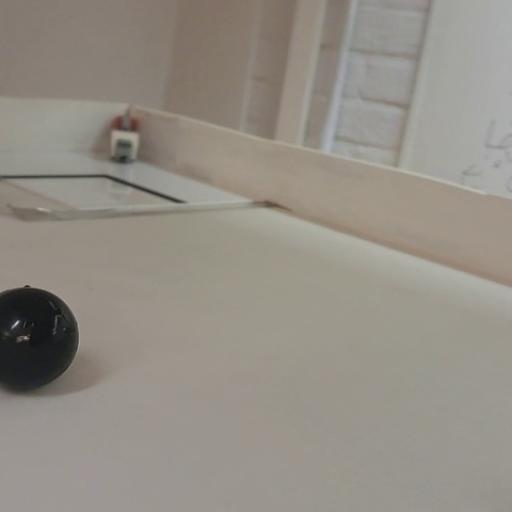dead: (0, 284, 79, 390)
